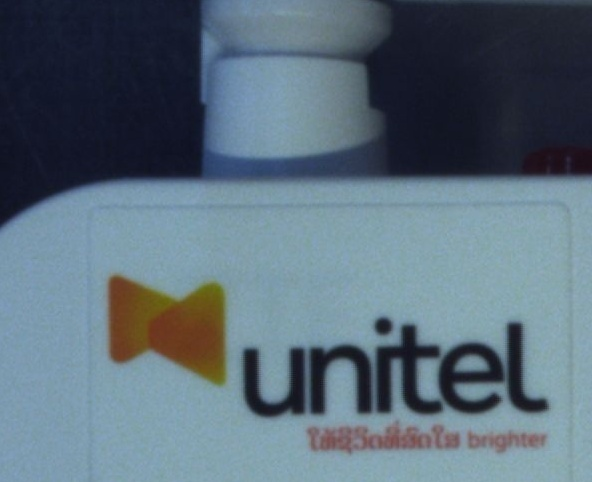BT_unitel: (105, 274, 556, 451)
